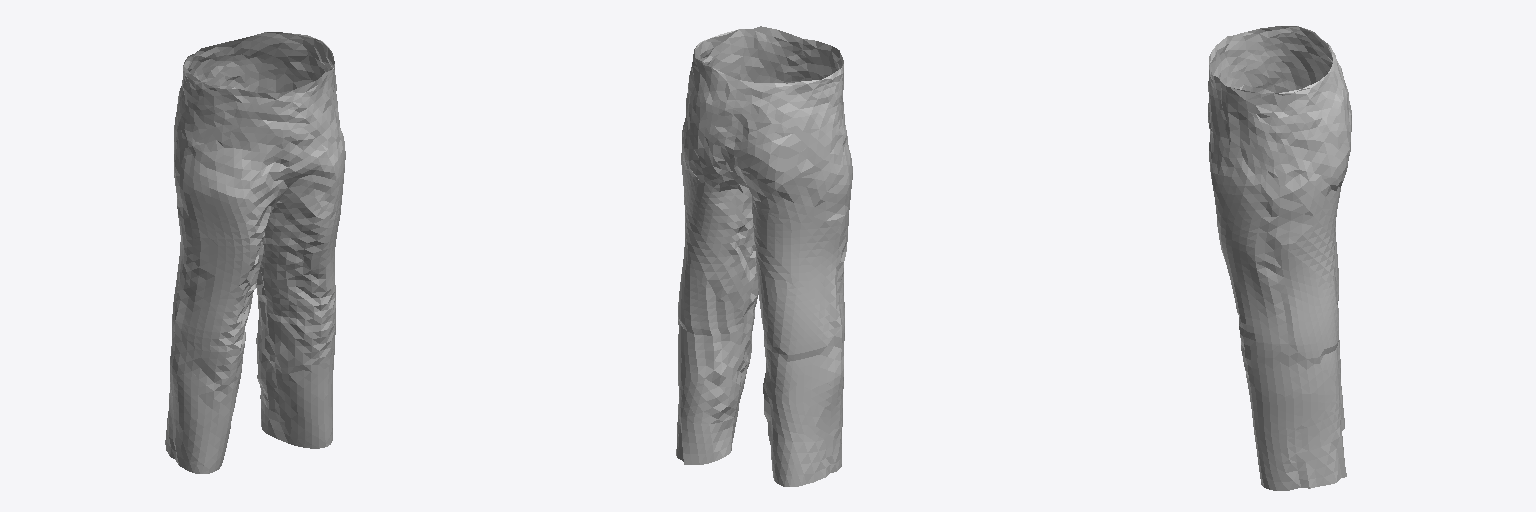
Rendered from deformed_pants.obj.
The picture shows the model from 3 angles: view 1: azimuth 30°, elevation 25°; view 2: azimuth 150°, elevation 25°; view 3: azimuth 270°, elevation 25°; orthographic projection.
Parts seen in each view (by area): view 1: pants_pants-iso; view 2: pants_pants-iso; view 3: pants_pants-iso.
Part boxes in pixels (bbox=[...]): pants_pants-iso: bbox=[165, 32, 345, 473]; pants_pants-iso: bbox=[676, 26, 852, 486]; pants_pants-iso: bbox=[1208, 26, 1351, 490].
Size of the model in its own units: 0.4022 by 0.9792 by 0.3212.